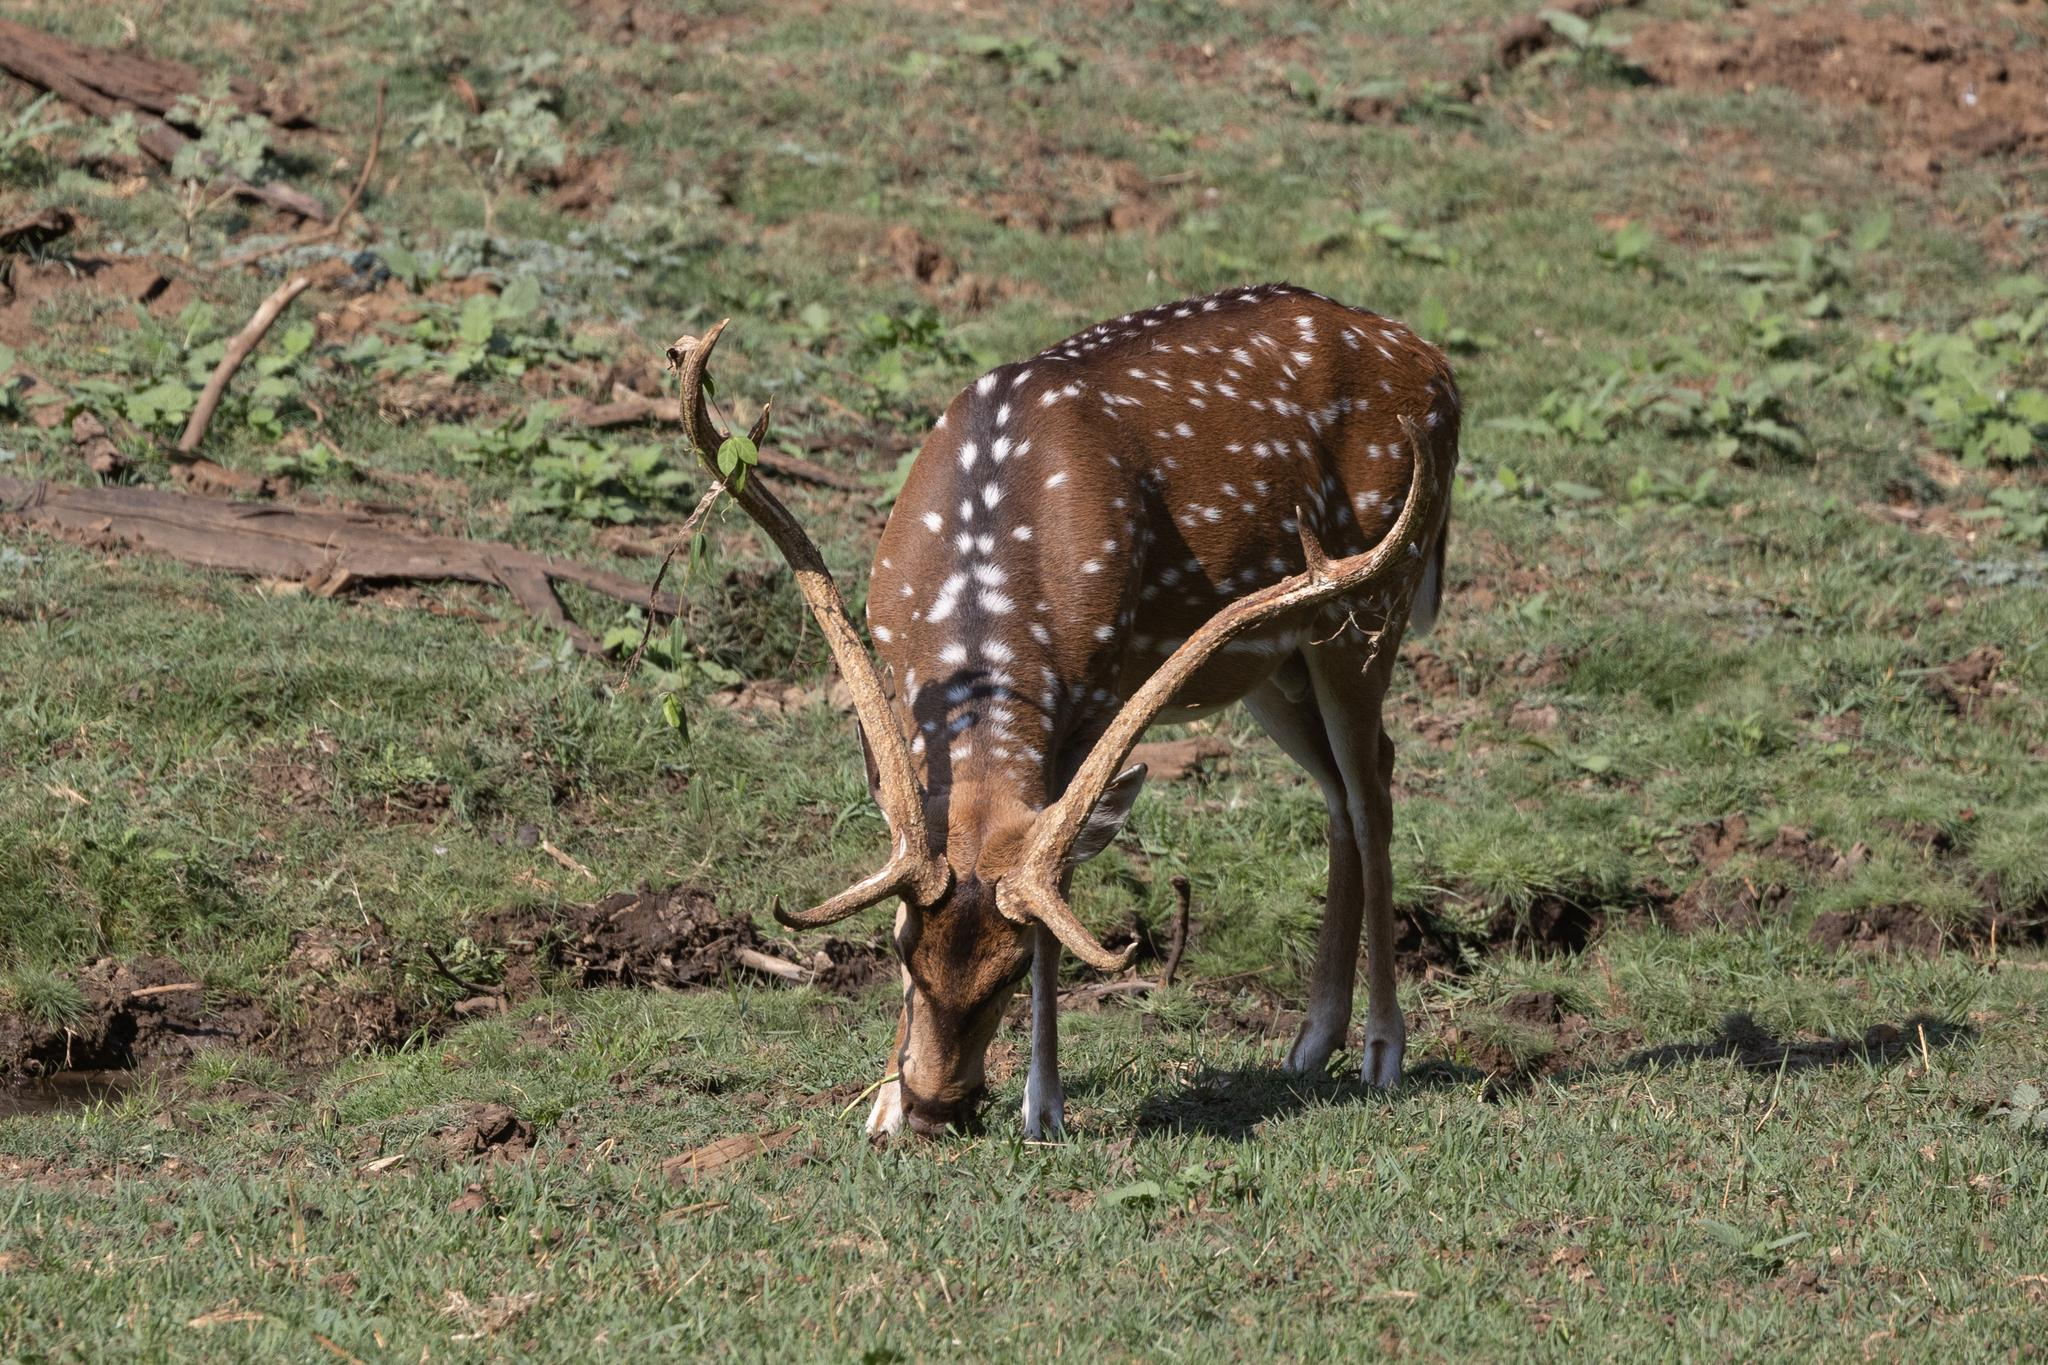Deer: (719, 285, 1460, 1138)
